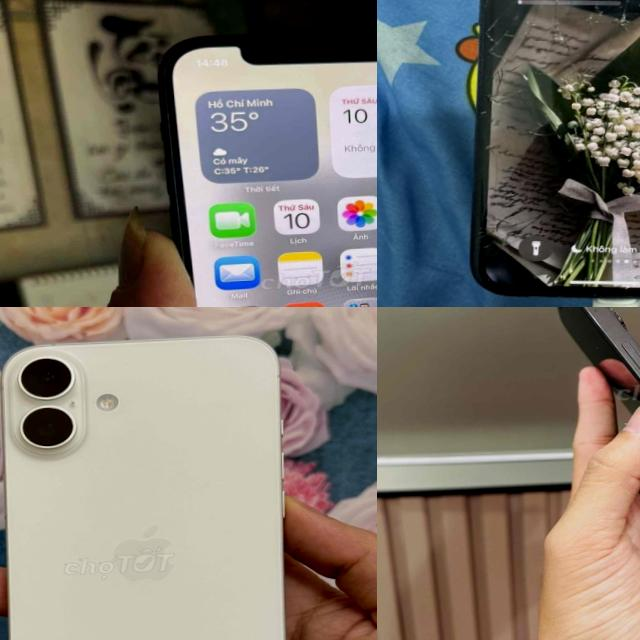gen_12_13: (149, 14, 377, 307), (451, 0, 640, 307), (536, 307, 640, 590)
gen_16: (0, 315, 309, 640)
physical_damage: (474, 106, 576, 148), (478, 51, 548, 110), (531, 0, 595, 49), (484, 1, 534, 58), (473, 216, 532, 263), (478, 148, 518, 216), (595, 0, 640, 43)
